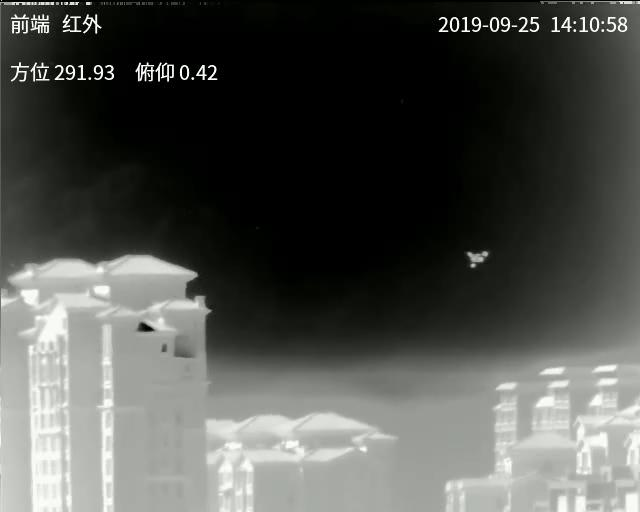uav: (465, 245, 489, 270)
